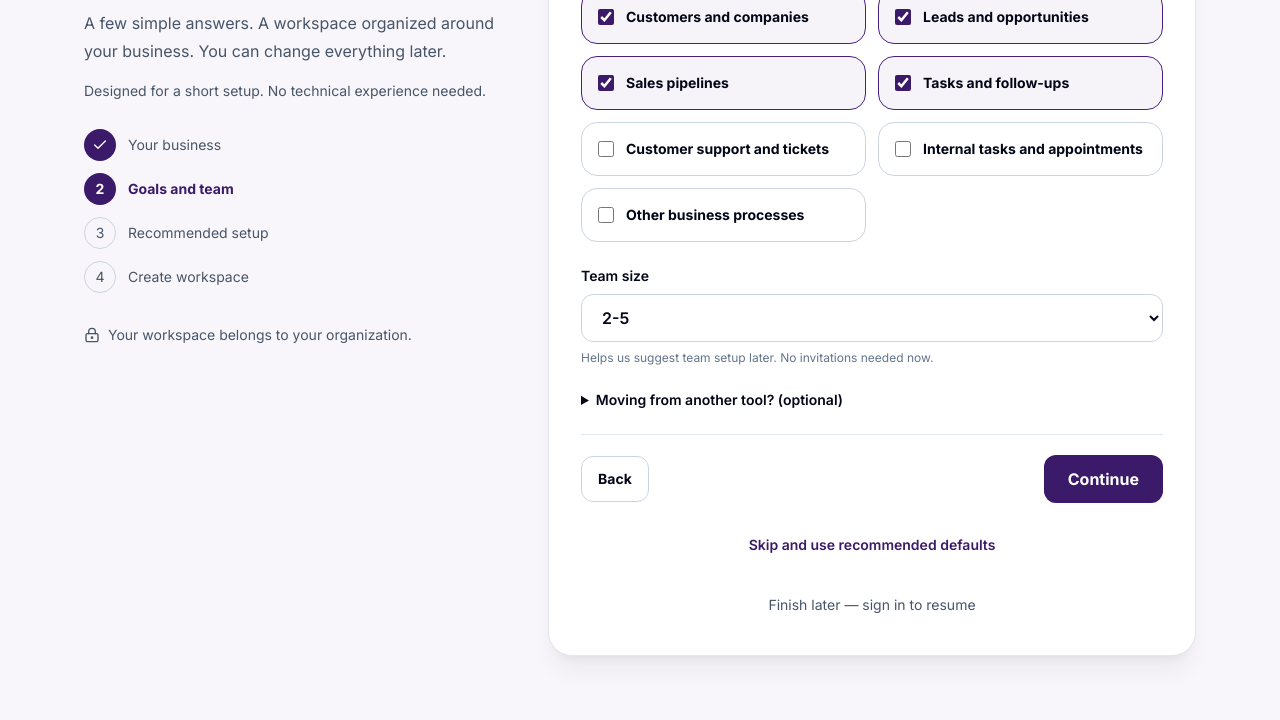
Smart Setup bilingual and resumable UI › skips optional questions using persisted defaults
The width and height of the screenshot is (1280, 720).
(page scrolled)
Click the button "Skip and use recommended defaults" at (872, 545), box [581,527,1163,563]
(page scrolled)
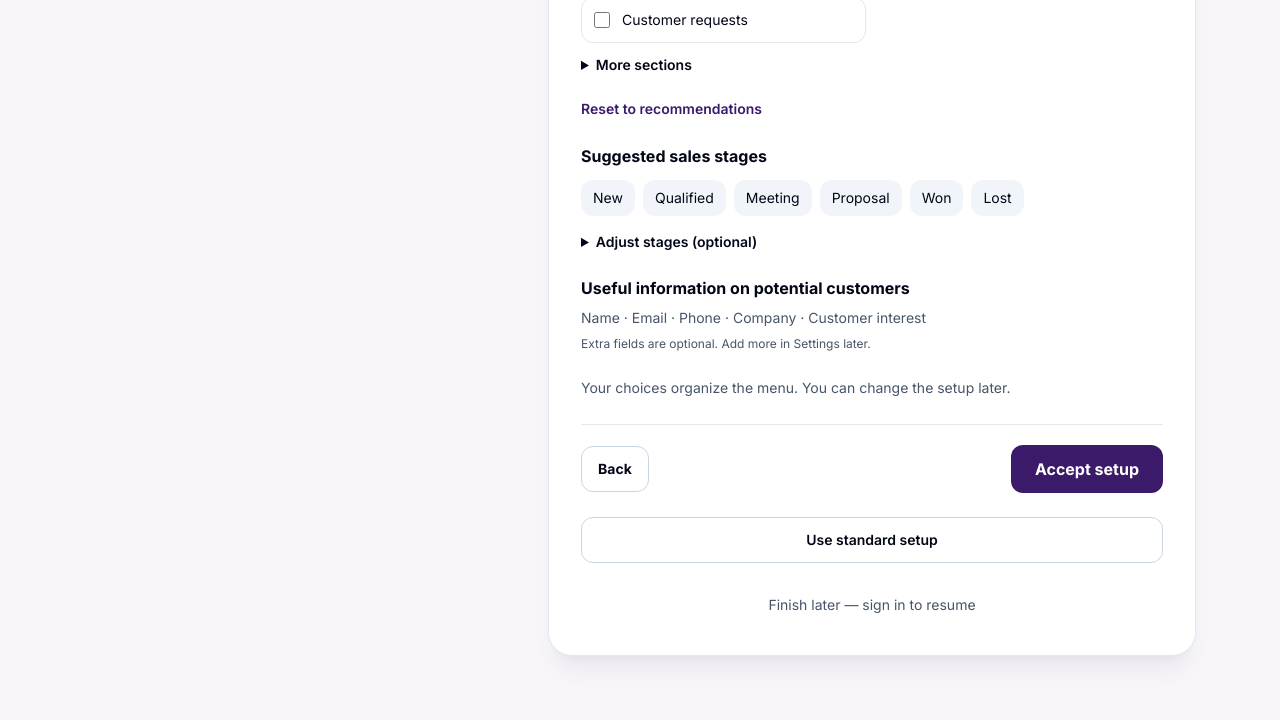
Check: the button "Accept setup" is shown, box [1011,445,1163,493]
